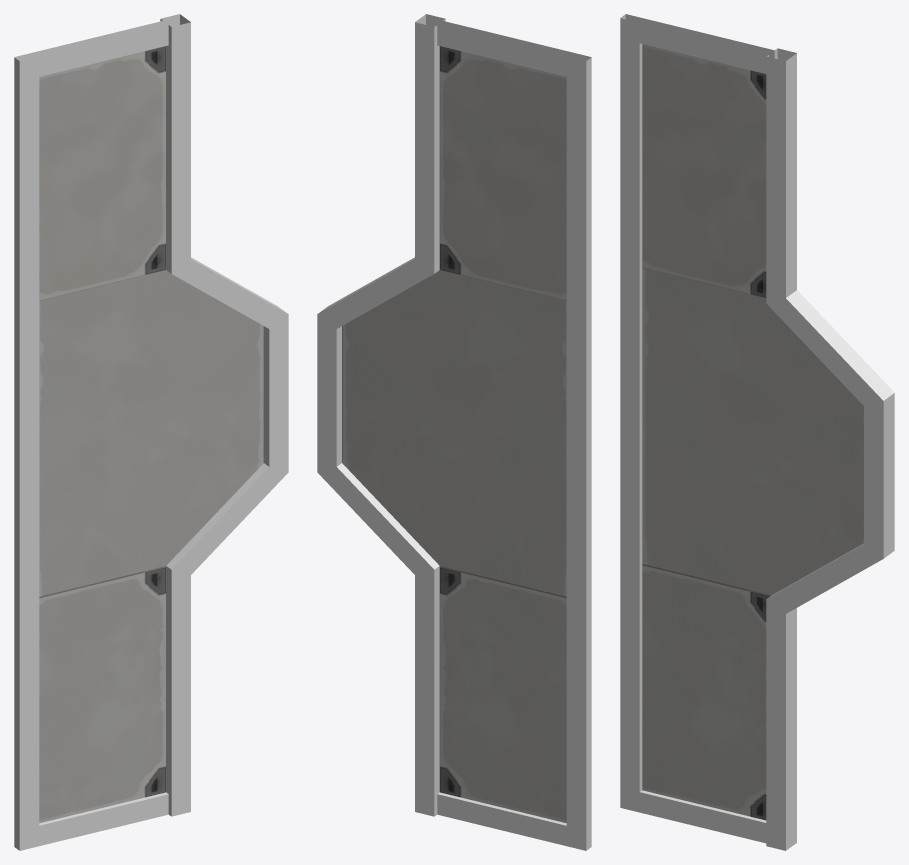
Rendered from door01_R.fbx.
3 renders of one model, left to right at view 1: azimuth 30°, elevation 25°; view 2: azimuth 150°, elevation 25°; view 3: azimuth 330°, elevation 25°, orthographic.
Parts seen in each view (by area): view 1: door01_R; view 2: door01_R; view 3: door01_R.
Boxes of the visible parts, <box> form: door01_R: <box>14,14,288,850</box>; door01_R: <box>317,14,591,850</box>; door01_R: <box>620,14,894,850</box>.
Bounding box in the file's own units: 54.5 × 155 × 4.
